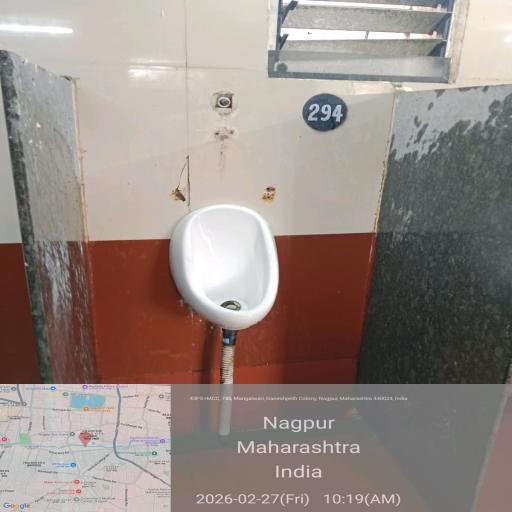clean_floor: (43, 38, 413, 190)
clean_urinal: (165, 222, 317, 332)
partial_dirty_floor: (53, 367, 440, 510)
